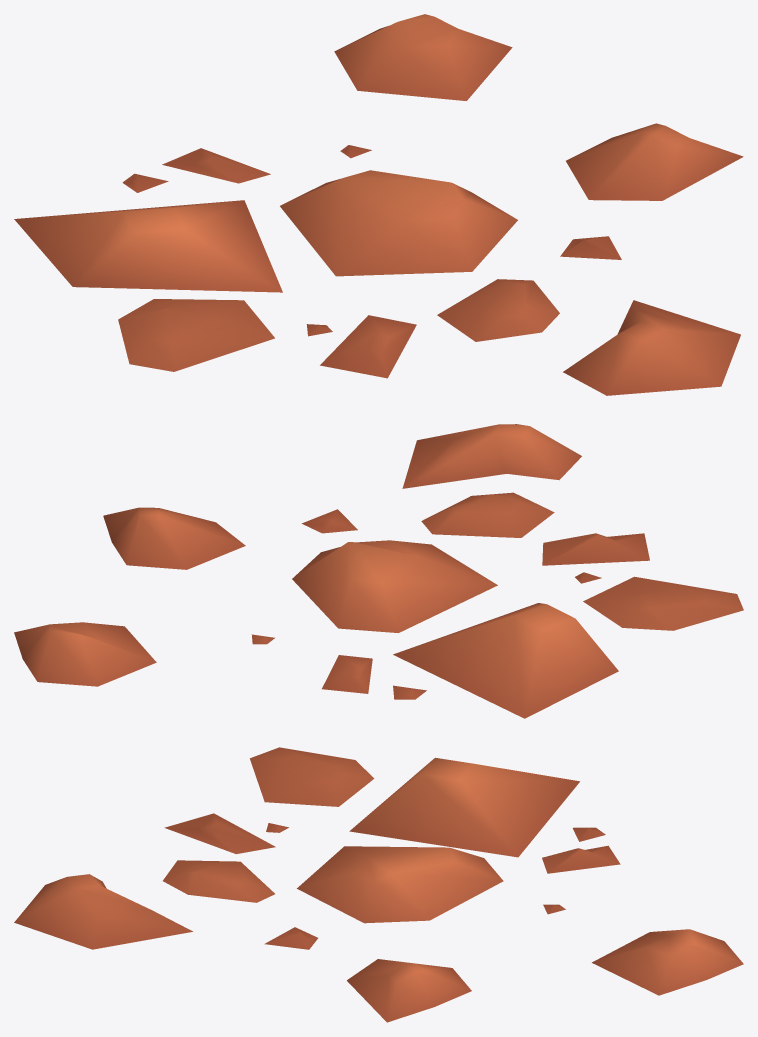
File: Pebbles.001.fbx
The picture shows the model from 3 angles, top to bottom: view 1: azimuth 30°, elevation 25°; view 2: azimuth 150°, elevation 25°; view 3: azimuth 270°, elevation 25°; orthographic projection. The views are drawn at different scales.
Parts seen in each view (by area): view 1: Pebbles.001; view 2: Pebbles.001; view 3: Pebbles.001.
Part boxes in pixels (box(x1,y1,x2,y2)): Pebbles.001: box(14, 14, 743, 395); Pebbles.001: box(14, 424, 743, 718); Pebbles.001: box(14, 747, 743, 1022).
Size of the model in its own units: 2.73 by 0.1738 by 3.12.
